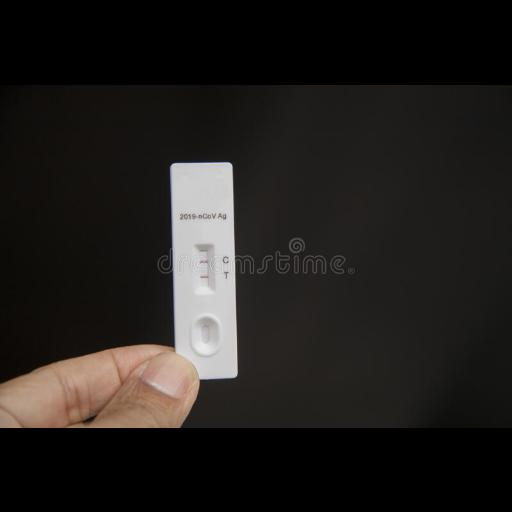Pos: (168, 161, 238, 377)
